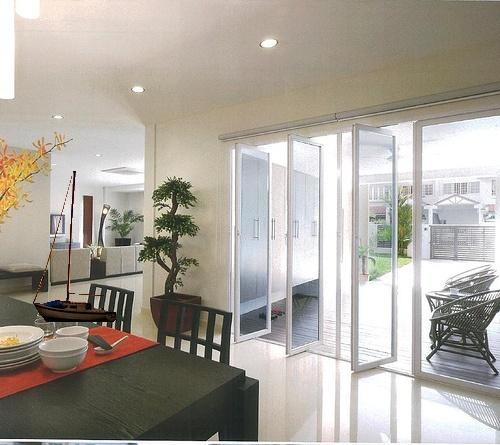tampered: (34, 172, 116, 322)
